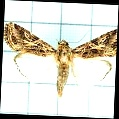Spodoptera litura: (3, 24, 116, 98)
